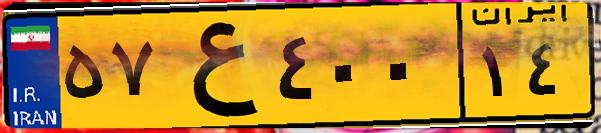0: (385, 28, 445, 110), (330, 28, 385, 110)
1: (475, 38, 525, 113)
4: (270, 28, 330, 110), (525, 38, 570, 115)
5: (57, 26, 110, 100)
7: (110, 28, 158, 98)
ع: (158, 12, 270, 120)
